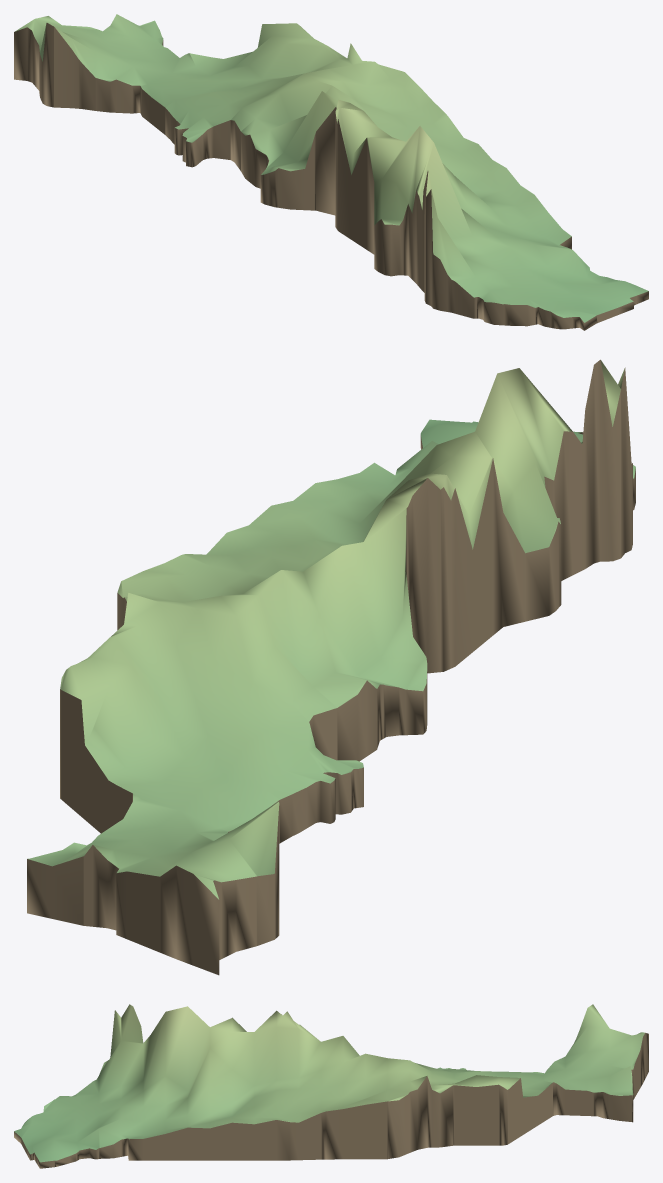
The model's file is TGO.glb.
The picture shows the model from 3 angles, top to bottom: view 1: azimuth 30°, elevation 25°; view 2: azimuth 150°, elevation 25°; view 3: azimuth 270°, elevation 25°; orthographic projection. The views are drawn at different scales.
Parts seen in each view (by area): view 1: TGO; view 2: TGO; view 3: TGO.
Boxes of the visible parts, x1,y1,x2,y2 form: TGO: [14, 14, 648, 330]; TGO: [27, 359, 635, 975]; TGO: [14, 1004, 648, 1168].
Bounding box in the file's own units: 0.6496 × 0.338 × 1.77.
